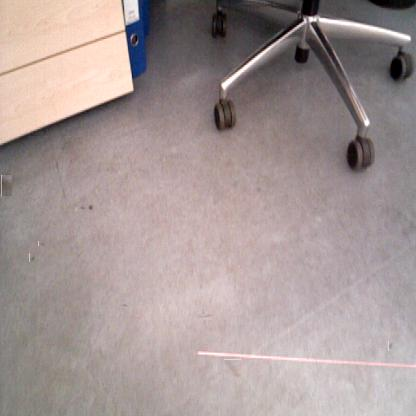mark: (223, 360, 242, 378), (1, 174, 12, 196), (200, 311, 212, 323), (29, 252, 36, 262), (120, 302, 128, 310), (388, 341, 393, 351), (39, 240, 46, 247), (80, 203, 86, 211), (88, 204, 94, 212)
